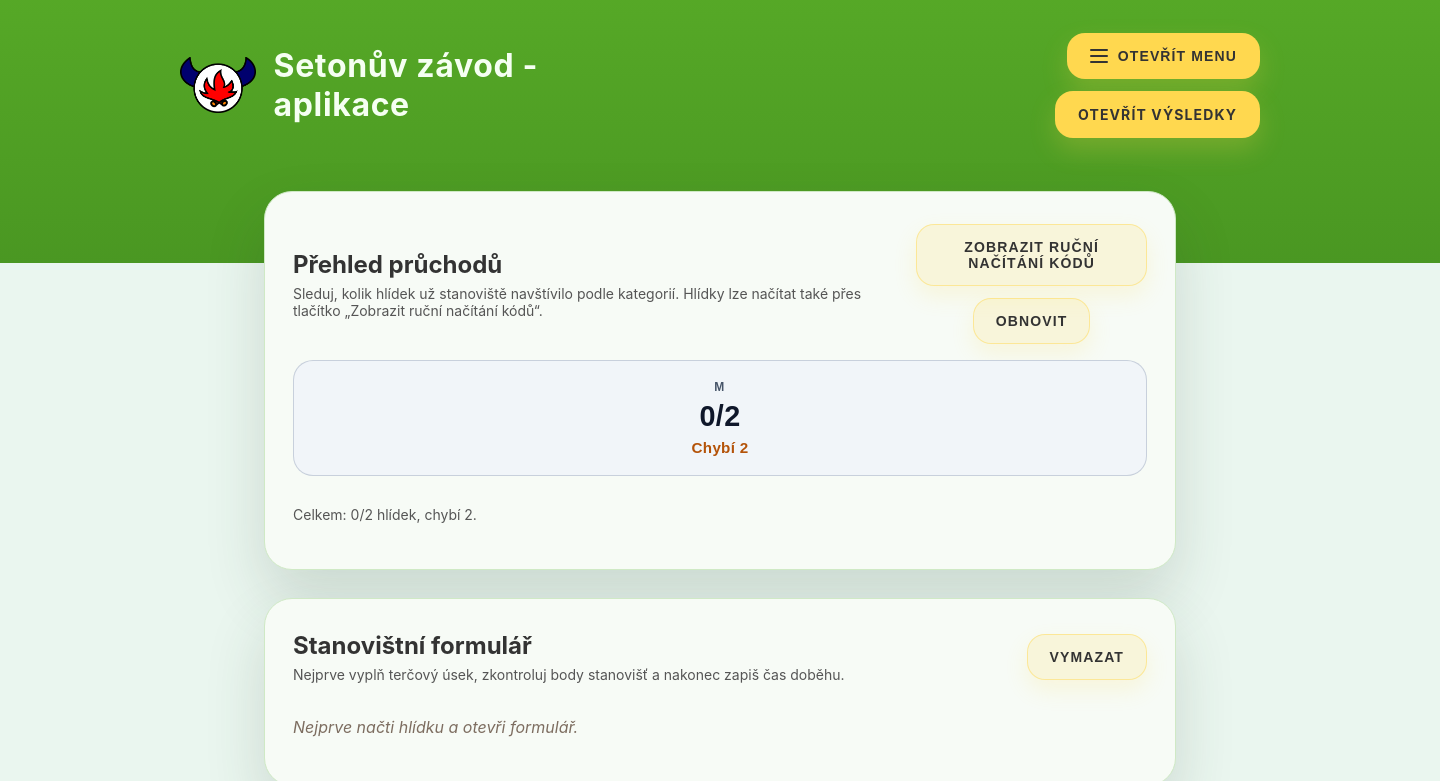
Test: station workflow › combines H and D patrols into base categories on Výpočetka summary
Click the button "M 0/2 Chybí 2" at (720, 418), box [293, 360, 1147, 476]
(page scrolled)
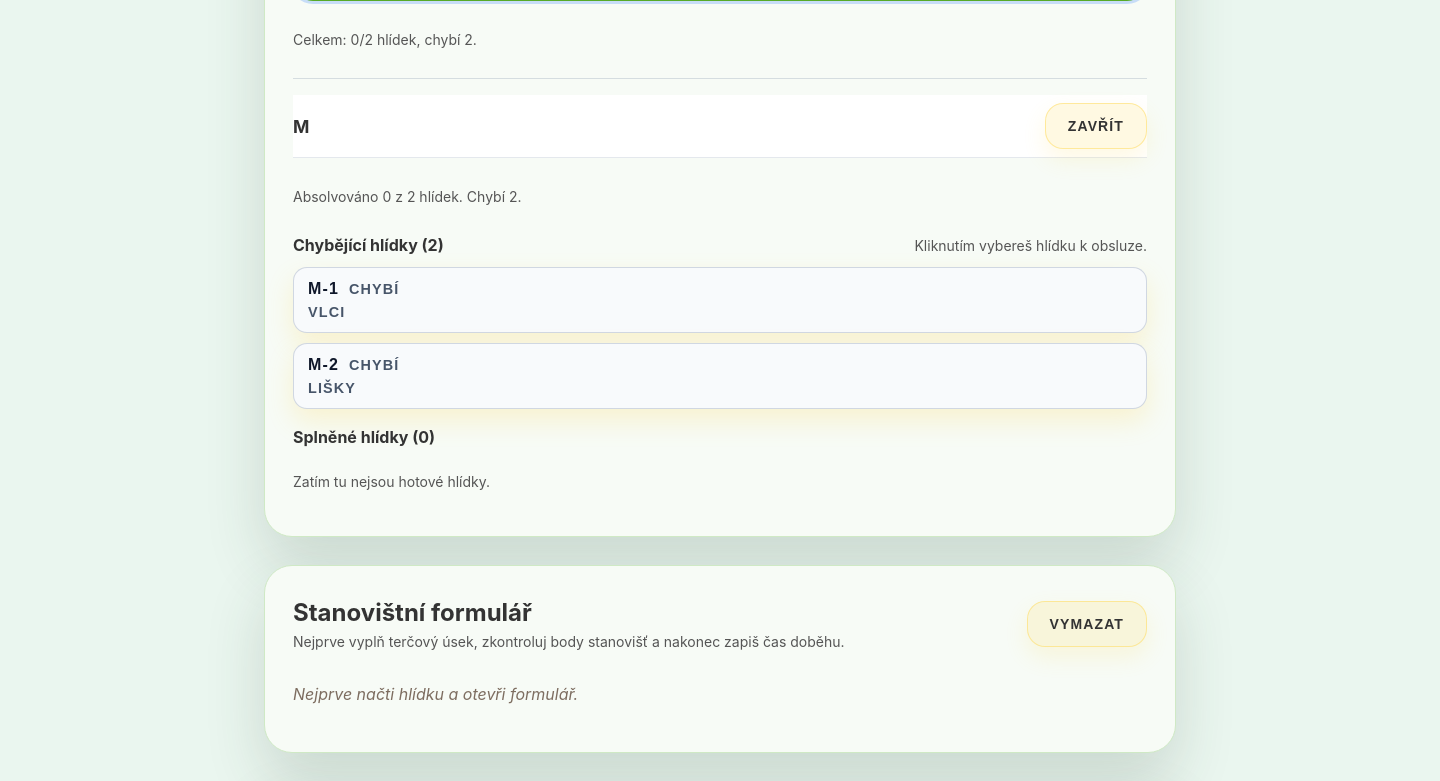
Check: the heading "M" is shown, box [293, 116, 309, 136]
Check: the button with aria-label "Vybrat hlídku M-1" is shown, box [293, 267, 1147, 333]
Check: the button with aria-label "Vybrat hlídku M-2" is shown, box [293, 343, 1147, 409]
